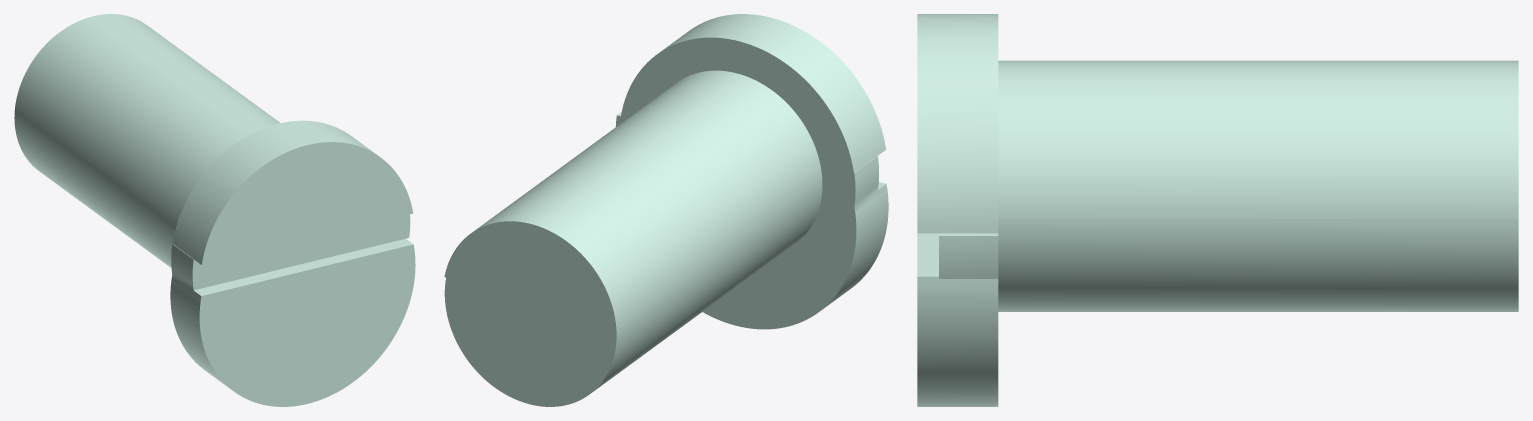
The picture shows the model from 3 angles, left to right: view 1: azimuth 30°, elevation 25°; view 2: azimuth 150°, elevation 25°; view 3: azimuth 270°, elevation 25°; orthographic projection. The views are drawn at different scales.
Parts seen in each view (by area): view 1: Renderer Node; view 2: Renderer Node; view 3: Renderer Node.
Part boxes in pixels (x1,y1,x2,y2): Renderer Node: (14, 14, 415, 406); Renderer Node: (444, 14, 888, 406); Renderer Node: (917, 14, 1518, 406).
Size of the model in its own units: 0.5065 by 0.5734 by 0.8672.
